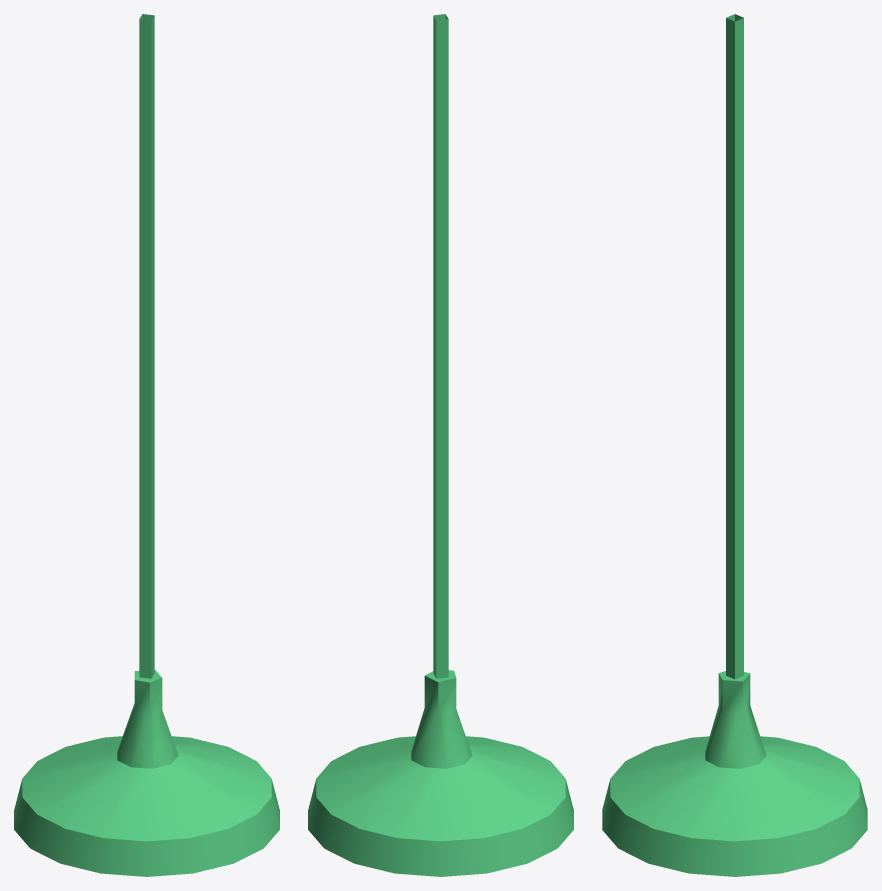
Rendered from Lamp_Int.fbx.
The picture shows the model from 3 angles, left to right: view 1: azimuth 30°, elevation 25°; view 2: azimuth 150°, elevation 25°; view 3: azimuth 270°, elevation 25°; orthographic projection.
Parts seen in each view (by area): view 1: Lamp_Int; view 2: Lamp_Int; view 3: Lamp_Int.
Boxes of the visible parts, <box> form: Lamp_Int: <box>14,14,279,876</box>; Lamp_Int: <box>308,14,573,876</box>; Lamp_Int: <box>602,14,867,876</box>.
Bounding box in the file's own units: 74.17 × 243 × 73.04.
